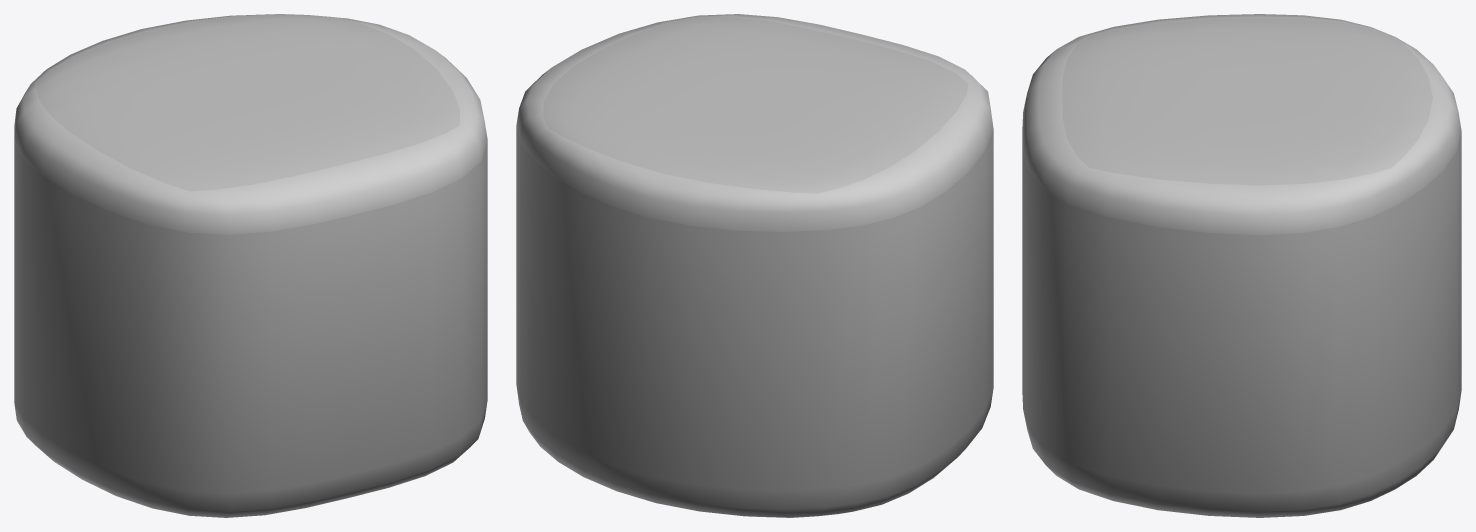
Rendered from big_stone_1_gray.fbx.
The picture shows the model from 3 angles, left to right: view 1: azimuth 30°, elevation 25°; view 2: azimuth 150°, elevation 25°; view 3: azimuth 270°, elevation 25°; orthographic projection.
Visible parts, largest first — view 1: big_stone_1_gray; view 2: big_stone_1_gray; view 3: big_stone_1_gray.
Boxes of the visible parts, x1=… form: big_stone_1_gray: x1=14, y1=14, x2=487, y2=517; big_stone_1_gray: x1=516, y1=14, x2=993, y2=517; big_stone_1_gray: x1=1022, y1=14, x2=1461, y2=517.
Bounding box in the file's own units: 251 × 200 × 235.
